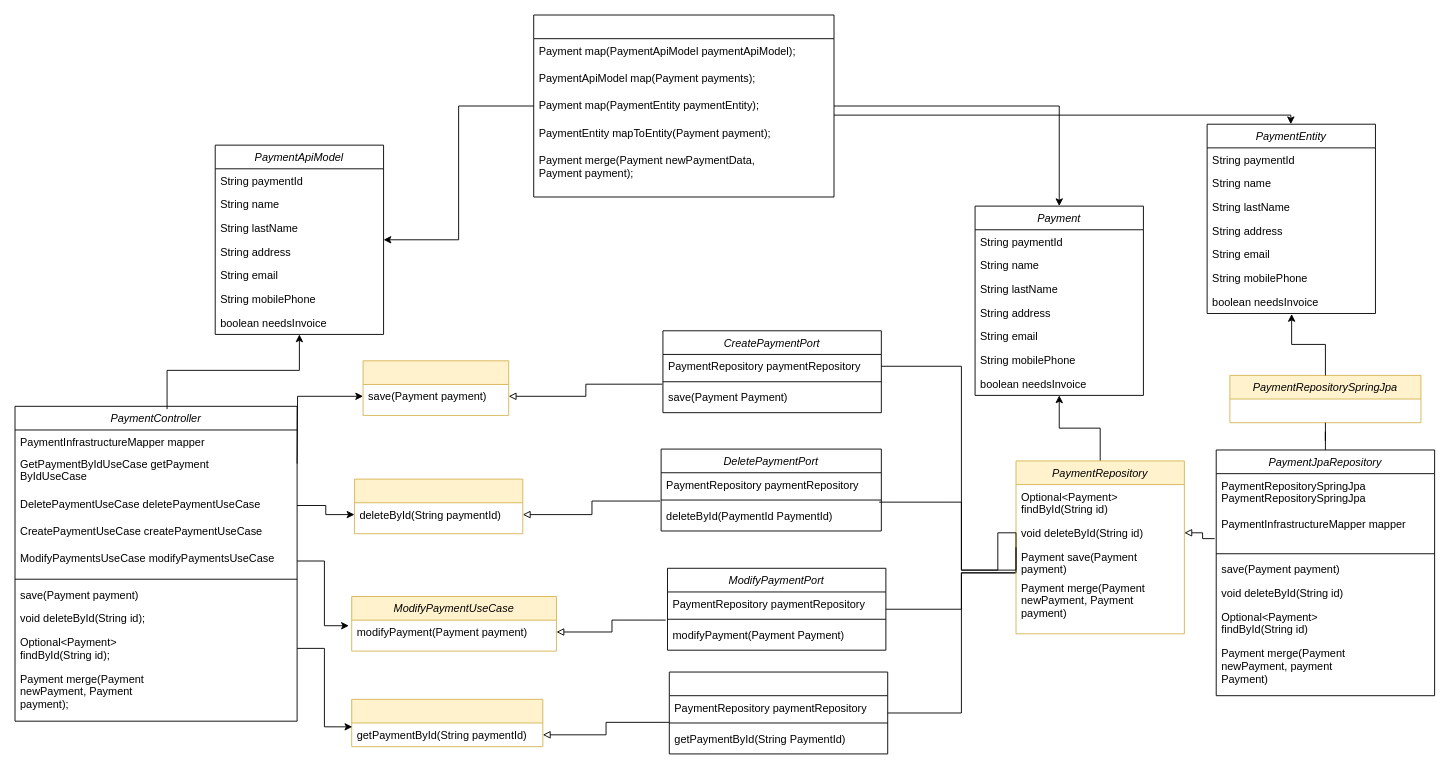
Image size: 1450x769. Some labels were removed from this diagram. Here are the shapes that lost their labels. From the top down, the box of each, then its label:
(533, 14, 834, 197): PaymentInfrastructureMapper
(362, 360, 509, 415): CreatePaymentUseCase
(354, 478, 523, 534): DeletePaymentUseCase
(351, 698, 543, 747): GetPaymentByIdUseCase
(668, 671, 888, 754): FindPaymentByIdPort
